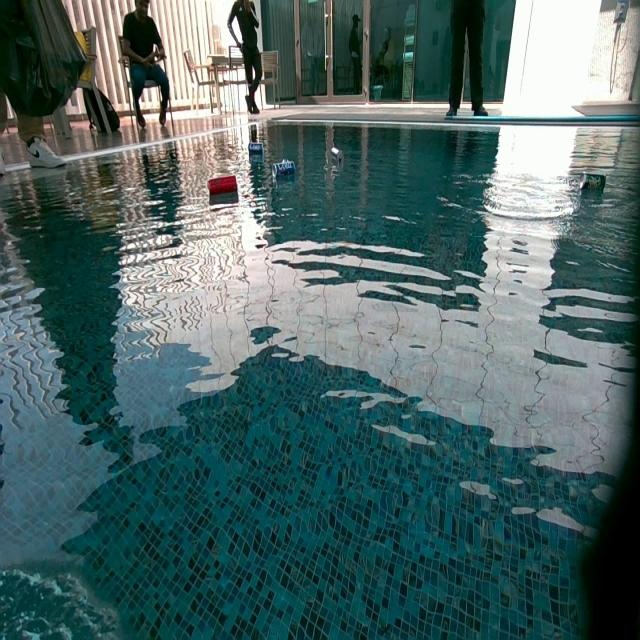Cans: (580, 172, 607, 194), (208, 176, 237, 196), (272, 160, 296, 180), (330, 148, 344, 166), (248, 142, 264, 156)
